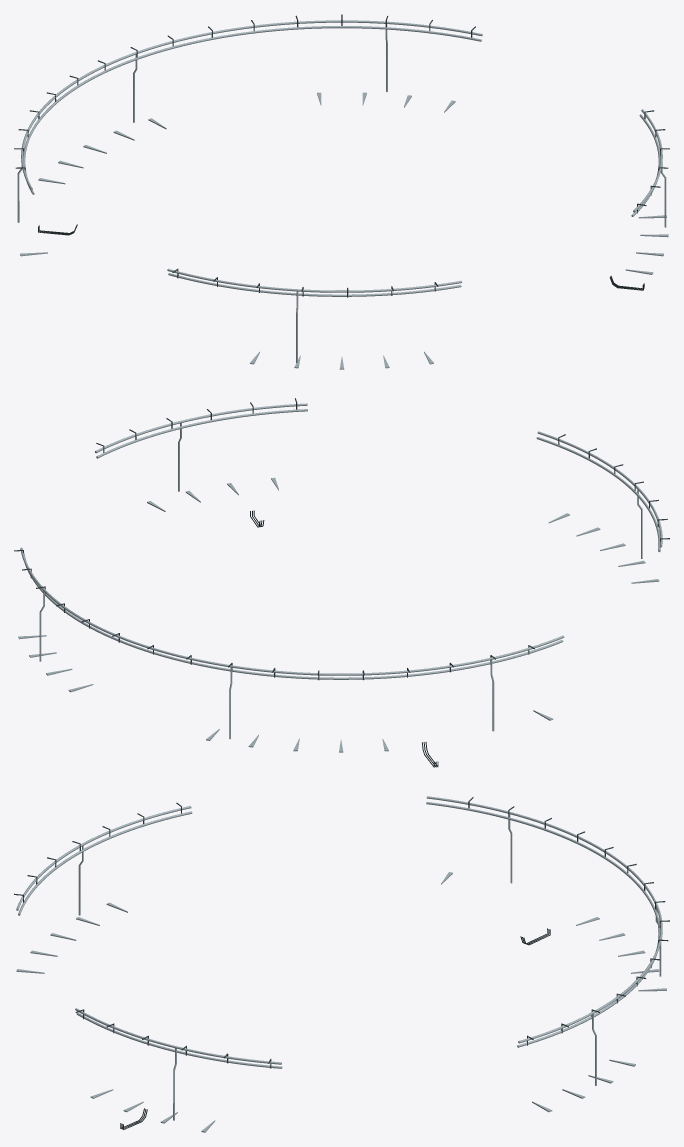
Rendered from CP_PerimeterServiceRuns.fbx.
The picture shows the model from 3 angles, top to bottom: view 1: azimuth 30°, elevation 25°; view 2: azimuth 150°, elevation 25°; view 3: azimuth 270°, elevation 25°; orthographic projection.
Visible parts, largest first — view 1: CP_PerimeterServiceRuns; view 2: CP_PerimeterServiceRuns; view 3: CP_PerimeterServiceRuns.
Part boxes in pixels (box(x1,y1,x2,y2)): CP_PerimeterServiceRuns: box(14, 14, 669, 369); CP_PerimeterServiceRuns: box(14, 398, 669, 767); CP_PerimeterServiceRuns: box(14, 796, 669, 1132).
Bounding box in the file's own units: 1777 × 332 × 1828.
